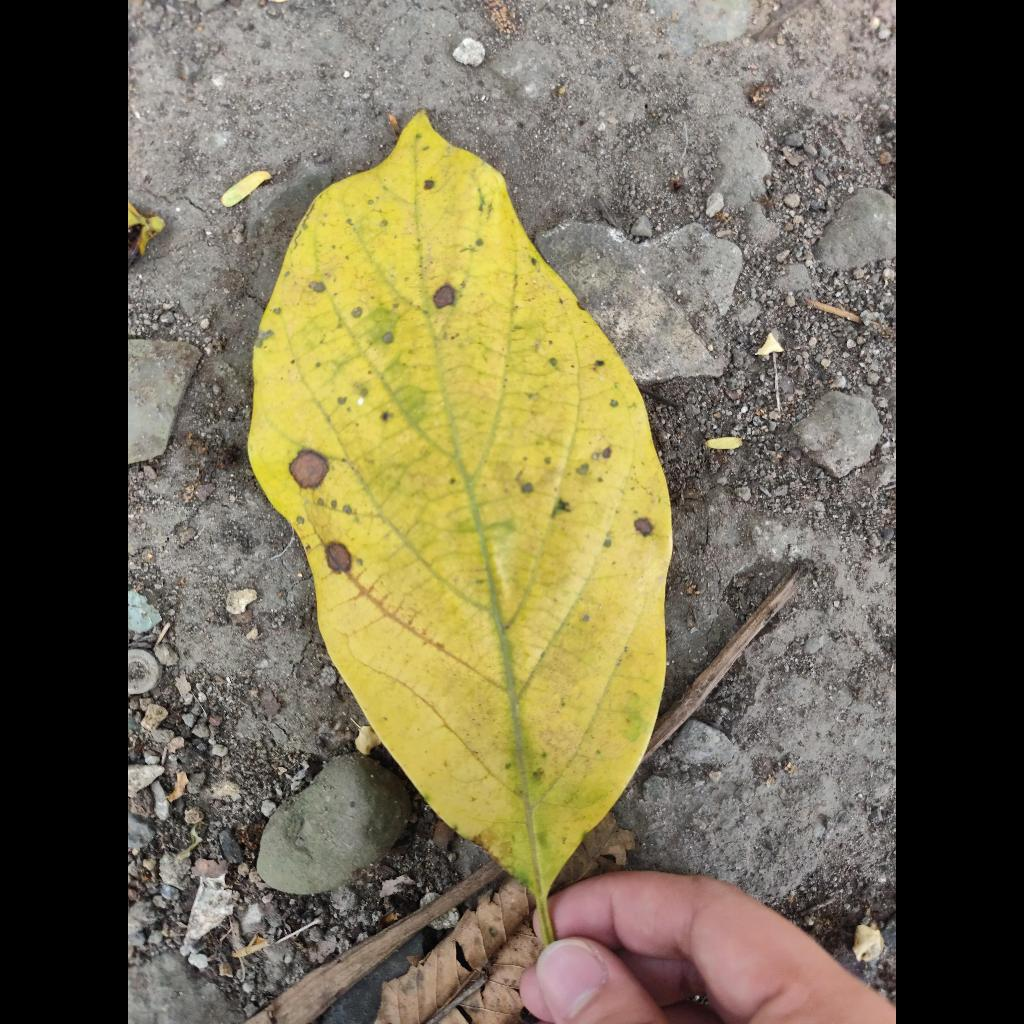nutrient_deficiency: (249, 112, 672, 901)
